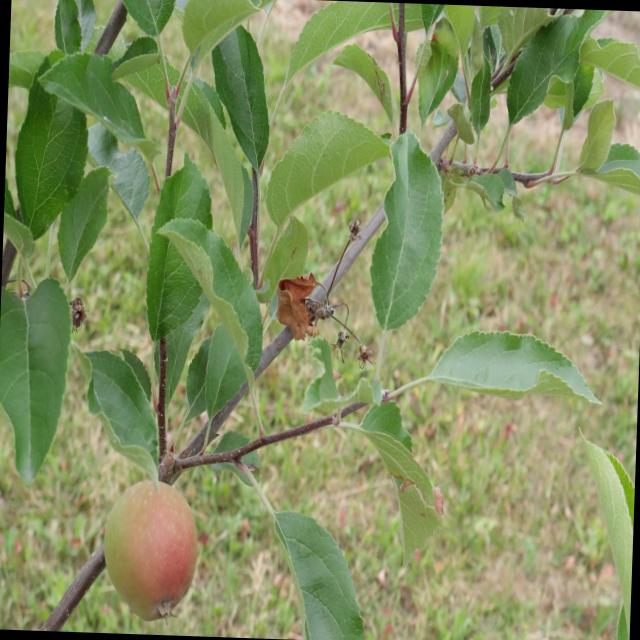-FireBlight-: (270, 274, 342, 344)
